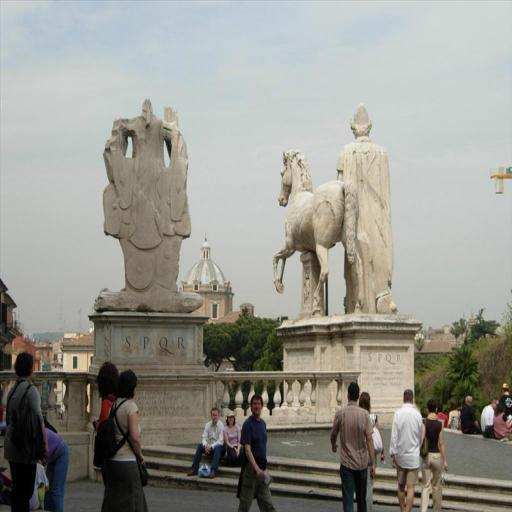horse: (271, 146, 358, 312)
